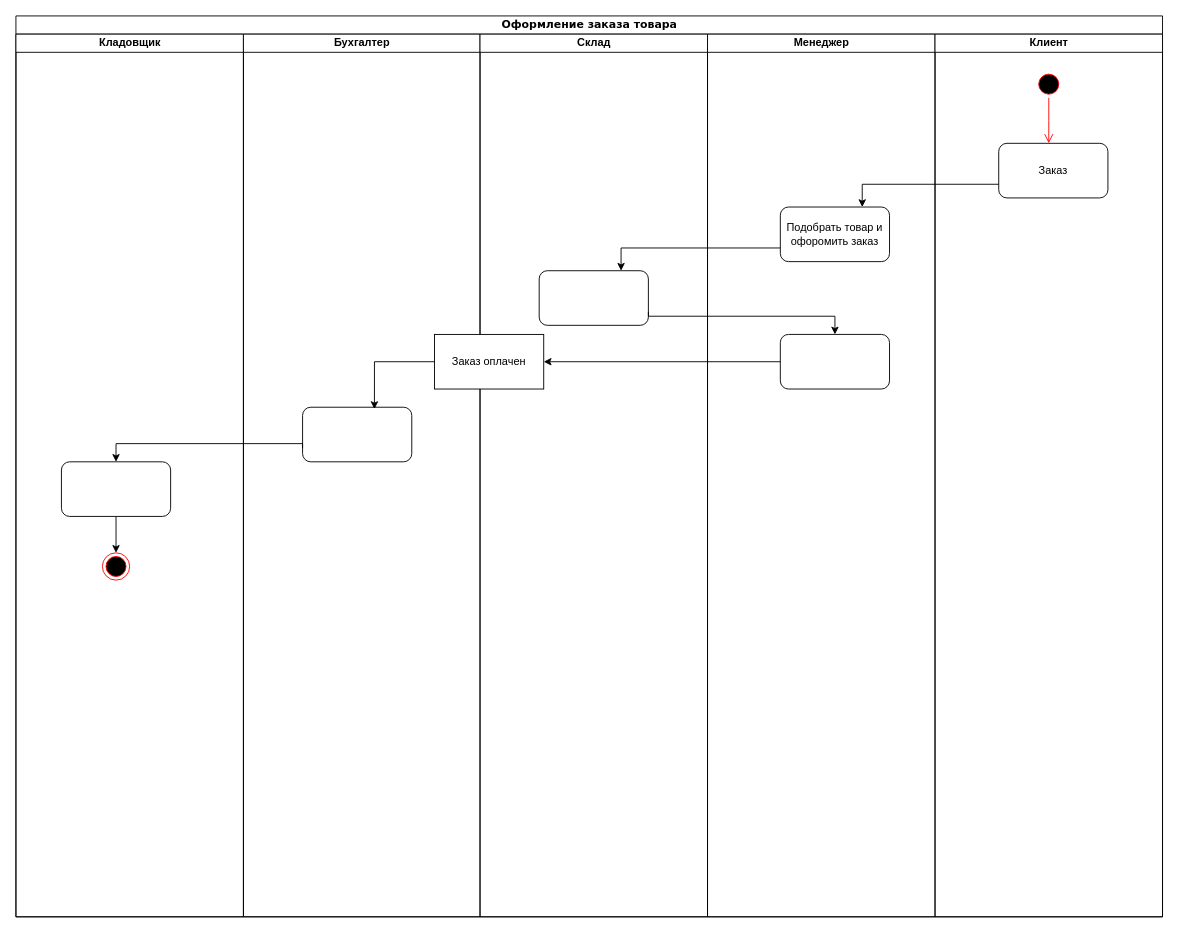
The diagram is 1178 pixels wide and 933 high, and some of its shapes have lost their labels. Here are the shapes that lost their labels. From the top down, the centre of each, then its label:
[593,297]: Отпустить товар
[834,361]: Создать счёт
[357,434]: Создать накладную
[116,488]: Выдать товар по накладной
